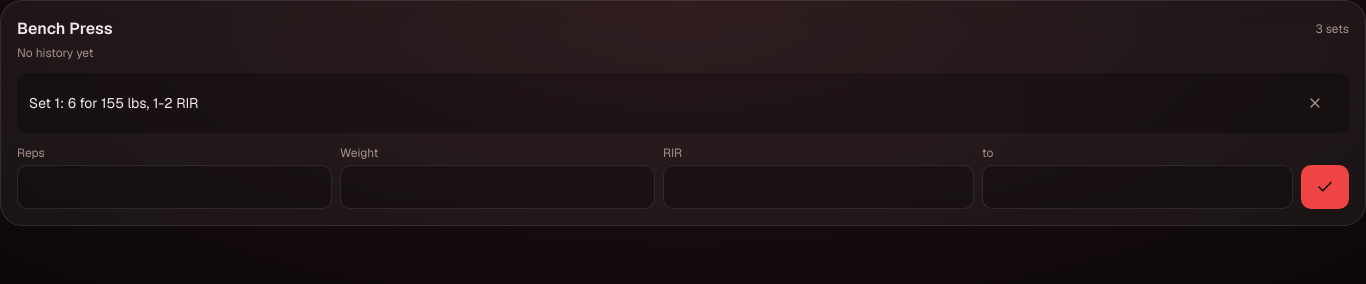
Test: editing a logged set › loads the set's values into the input row
Click the button with aria-label "Edit set 1". click: click(114, 103)
box: [29,81,198,125]
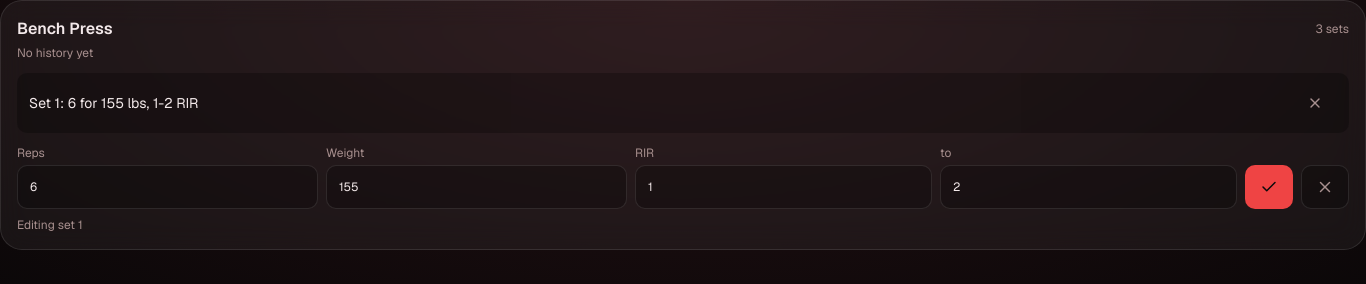
Check: the field labelled "Reps" holds "6", box [17,165,318,209]
Check: the field labelled "Weight" holds "155", box [326,165,627,209]
Check: the text "Editing set 1" is shown, box [17,217,83,233]
